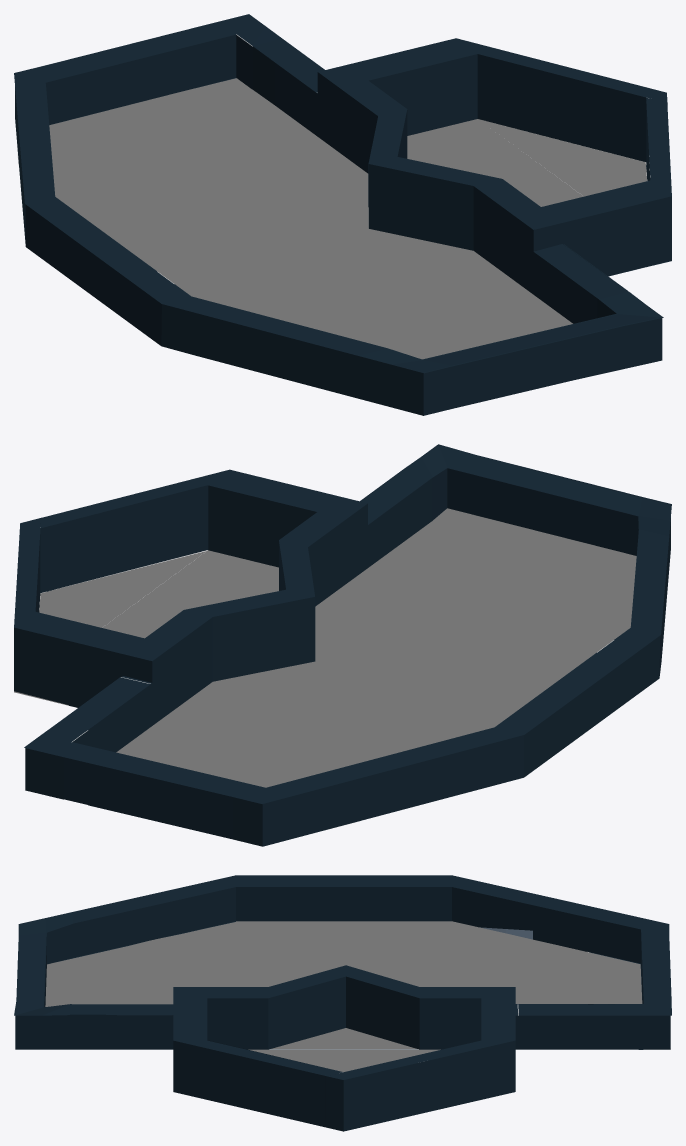
The model's file is basin.fbx.
3 views of the same model, one above another, from view 1: azimuth 30°, elevation 25°; view 2: azimuth 150°, elevation 25°; view 3: azimuth 270°, elevation 25° (orthographic). The views are drawn at different scales.
Parts seen in each view (by area): view 1: Cube; view 2: Cube; view 3: Cube.
Part boxes in pixels (x1=…): Cube: x1=14, y1=14, x2=671, y2=415; Cube: x1=14, y1=444, x2=671, y2=846; Cube: x1=14, y1=875, x2=671, y2=1131.
Size of the model in its own units: 1218 by 972 by 111.
